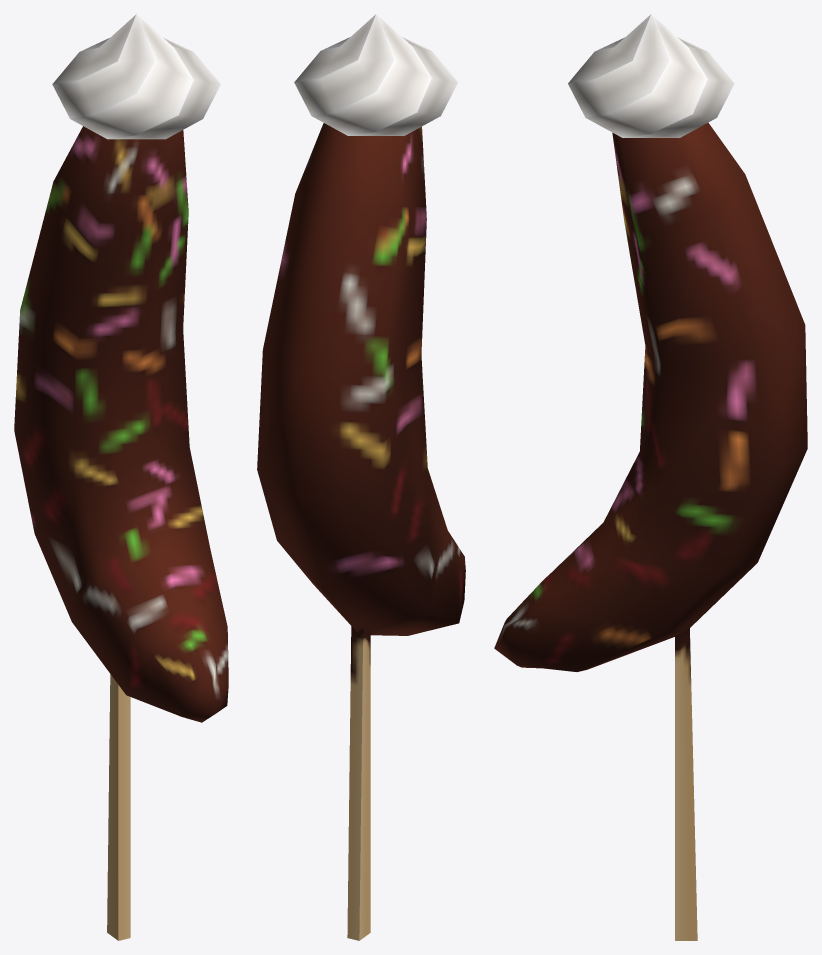
The model's file is jsf_ChocolateBanana_a03_c01.fbx.
3 views of the same model, side by side, from view 1: azimuth 30°, elevation 25°; view 2: azimuth 150°, elevation 25°; view 3: azimuth 270°, elevation 25° (orthographic). The views are drawn at different scales.
Parts seen in each view (by area): view 1: jsf_ChocolateBanana_a03_c01; view 2: jsf_ChocolateBanana_a03_c01; view 3: jsf_ChocolateBanana_a03_c01.
Part boxes in pixels (x1=…): jsf_ChocolateBanana_a03_c01: x1=14, y1=14, x2=228, y2=940; jsf_ChocolateBanana_a03_c01: x1=257, y1=14, x2=465, y2=940; jsf_ChocolateBanana_a03_c01: x1=494, y1=14, x2=807, y2=940.
Size of the model in its own units: 3.79 by 25.44 by 7.83.
